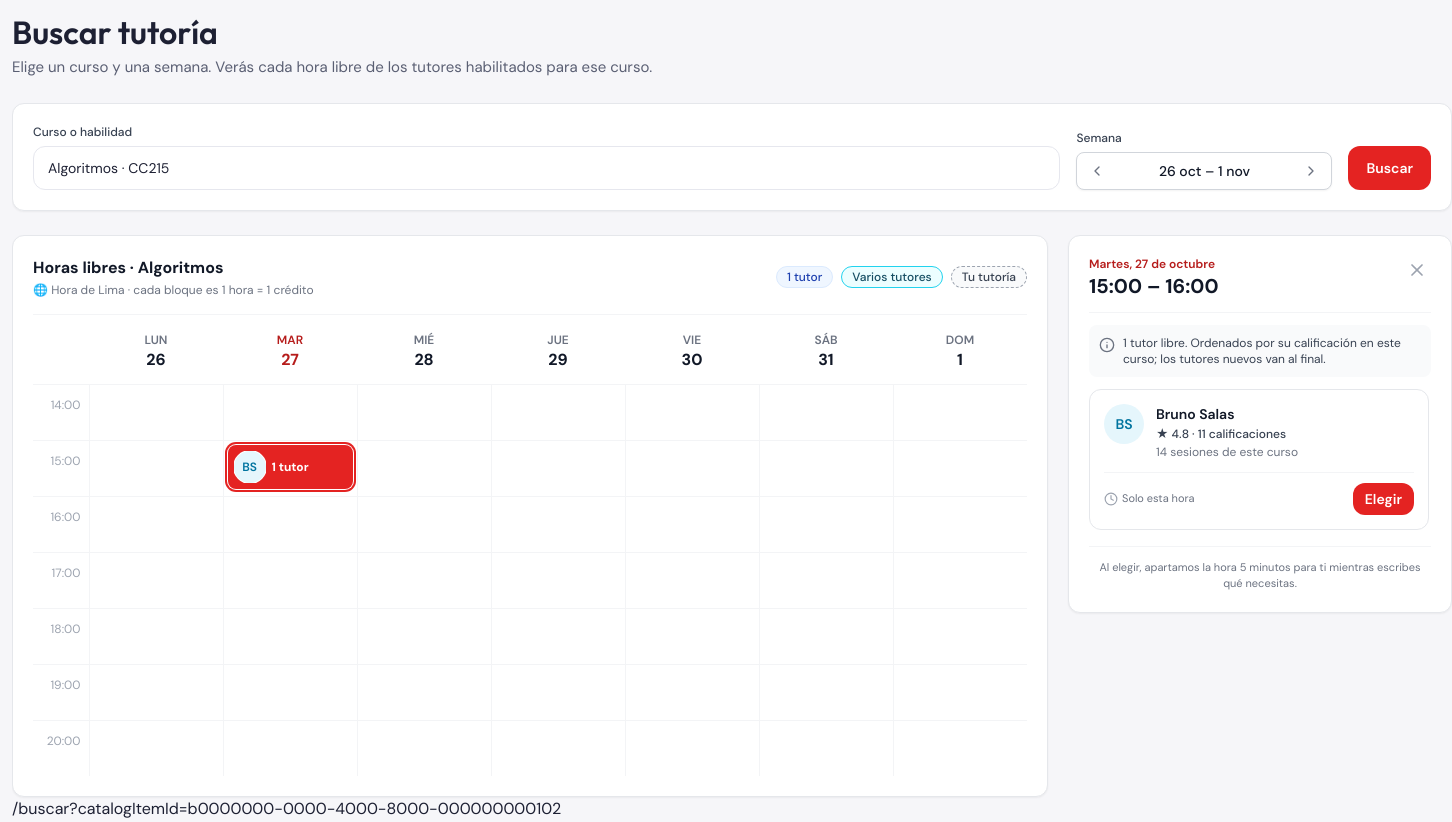
Test case: FE-10 SearchPage › shows offers in Lima time and allows choosing an offer to go to /reservar
Expected: the heading "Horas libres · Algoritmos" is shown, [33,256,223,278]
Expected: the text "★ 4.8 · 11 calificaciones" is shown, [1156,426,1286,442]
Clicking elegir navigates to /reservar
Step 1. Click the button "Elegir" → (1383, 498), box [1353,482,1414,514]
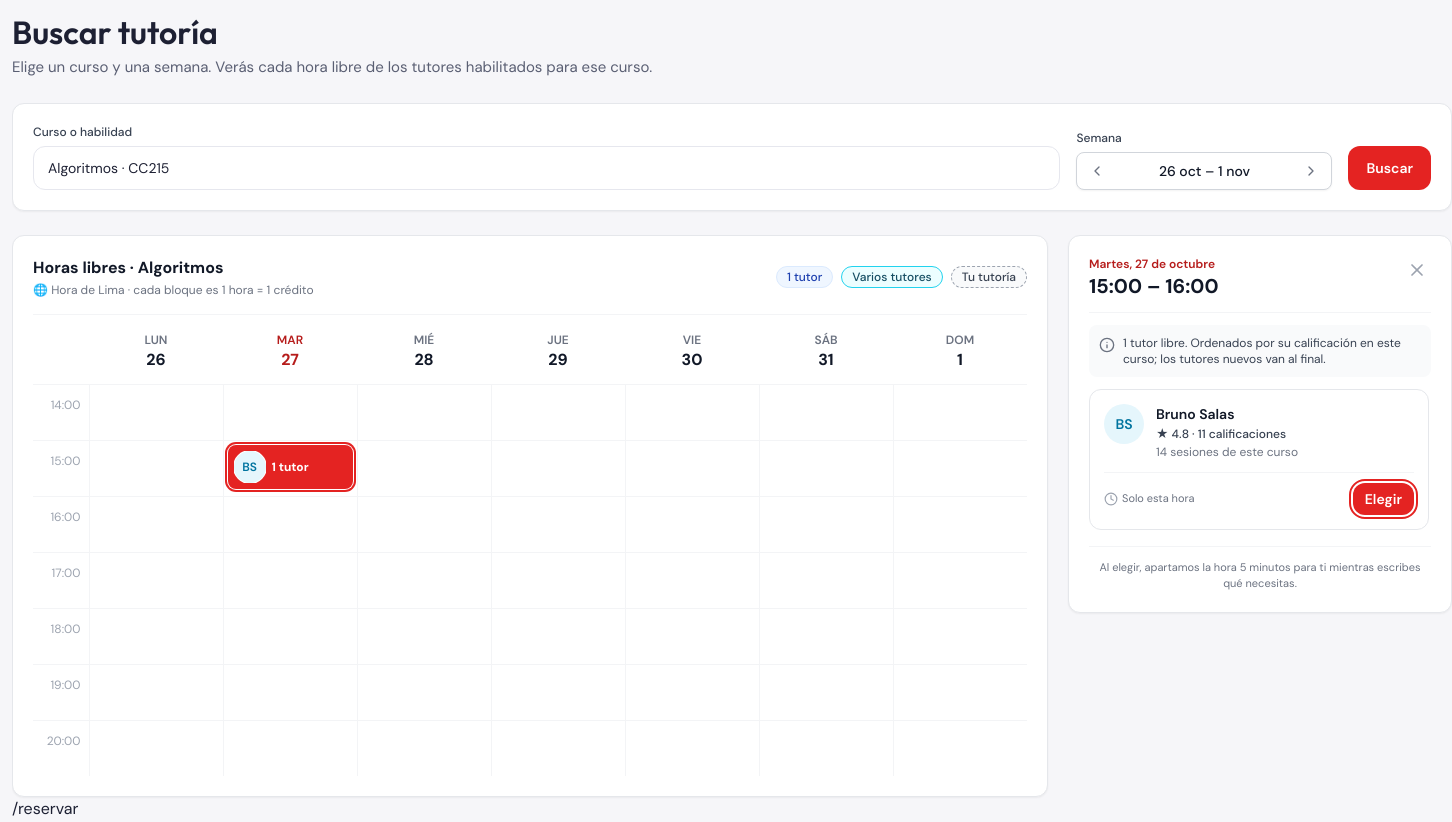
Expected: the text with test id "location" reads "/reservar", [12,798,78,819]
